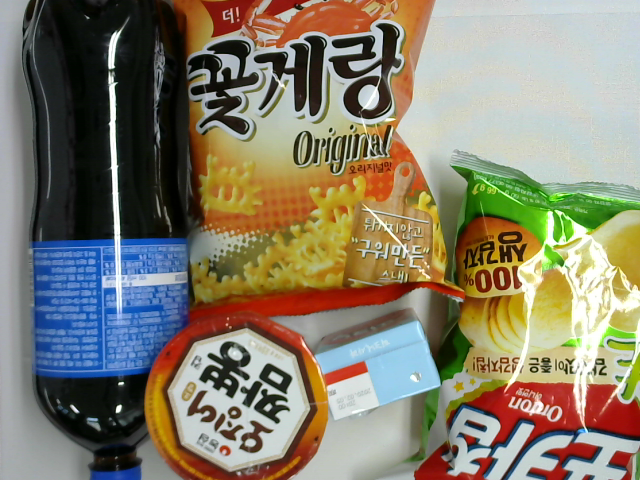Crabrang: (177, 1, 464, 328)
Ojjam: (144, 315, 332, 480)
Pepsi_Cola_1.5L: (23, 2, 192, 480)
Picnic_Apple: (315, 308, 444, 421)
Pocachip_Onion: (376, 149, 640, 479)
